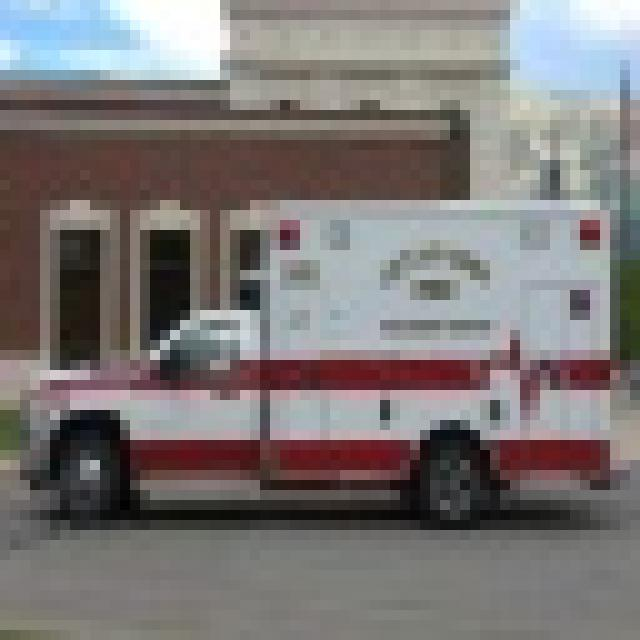Ambulance: (10, 190, 620, 520)
